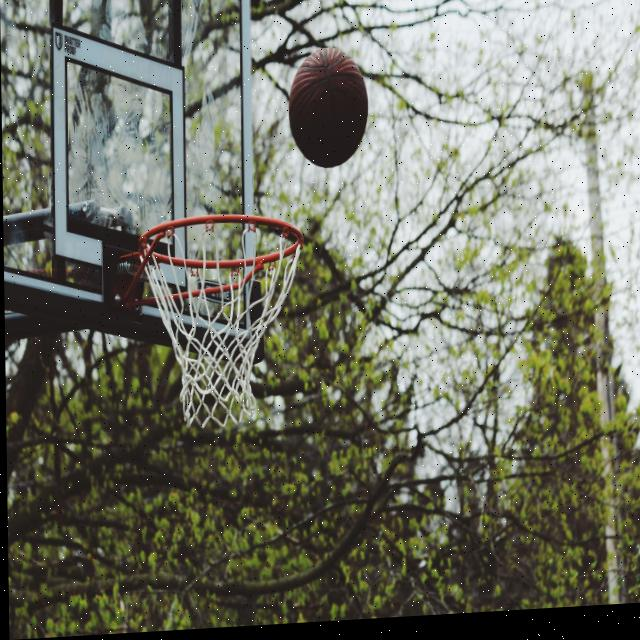basketball: (289, 45, 370, 170)
hoop: (138, 211, 308, 435)
